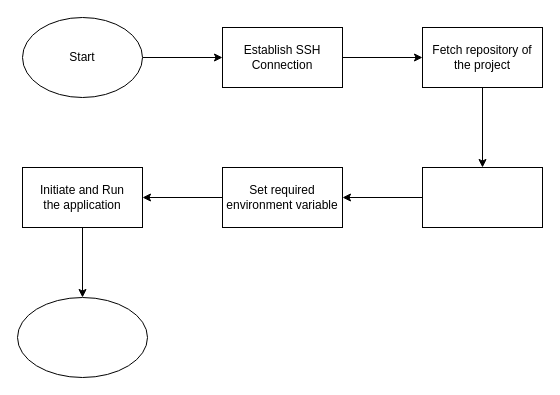
Image size: 560x395. Some labels were removed from this diagram. Here are the shapes that lost their labels. From the top down, the centre of each, then its label:
At point (482, 197): "Check and install missing dependency".
At point (82, 337): "End".
